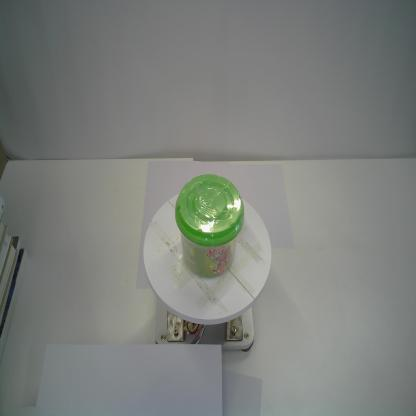Instant Drink: (174, 173, 245, 278)
